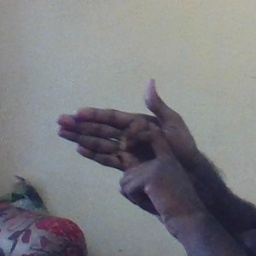R: (54, 72, 195, 210)
